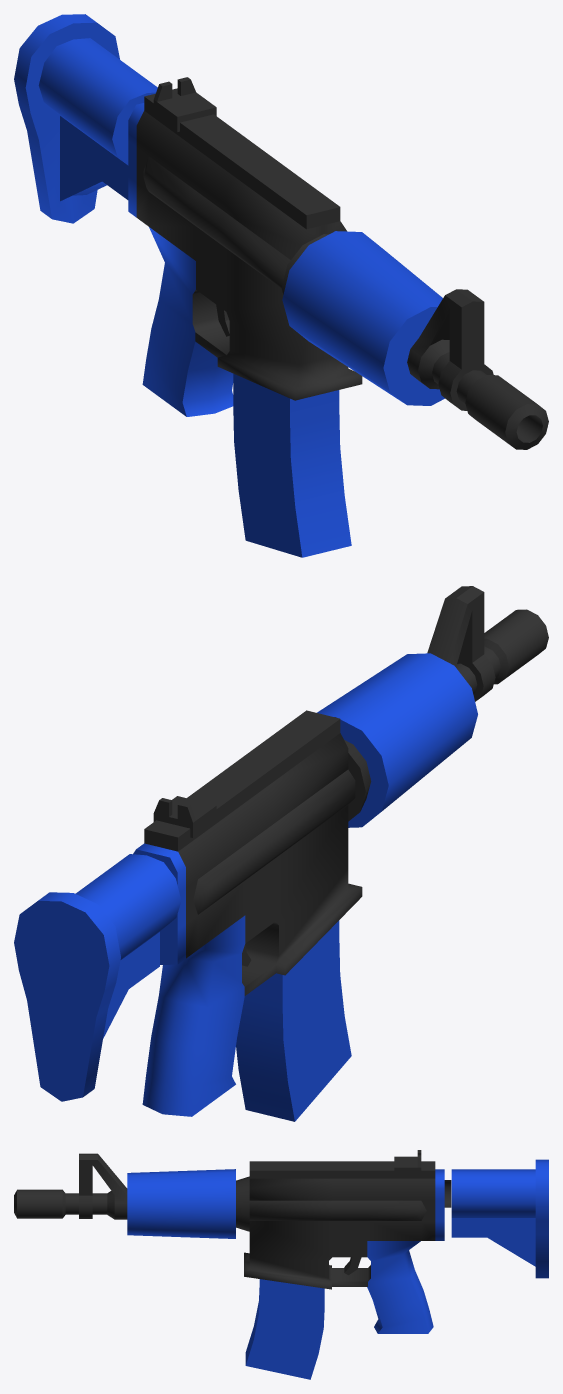
File: Gun_3_02_M4.fbx
3 renders of one model, top to bottom at view 1: azimuth 30°, elevation 25°; view 2: azimuth 150°, elevation 25°; view 3: azimuth 270°, elevation 25°, orthographic. The views are drawn at different scales.
Parts seen in each view (by area): view 1: Gun_3_02_M4; view 2: Gun_3_02_M4; view 3: Gun_3_02_M4.
Boxes of the visible parts, <box> form: Gun_3_02_M4: <box>14,14,548,557</box>; Gun_3_02_M4: <box>14,586,548,1121</box>; Gun_3_02_M4: <box>14,1150,548,1379</box>.
Bounding box in the file's own units: 0.3013 × 1.04 × 2.29.
